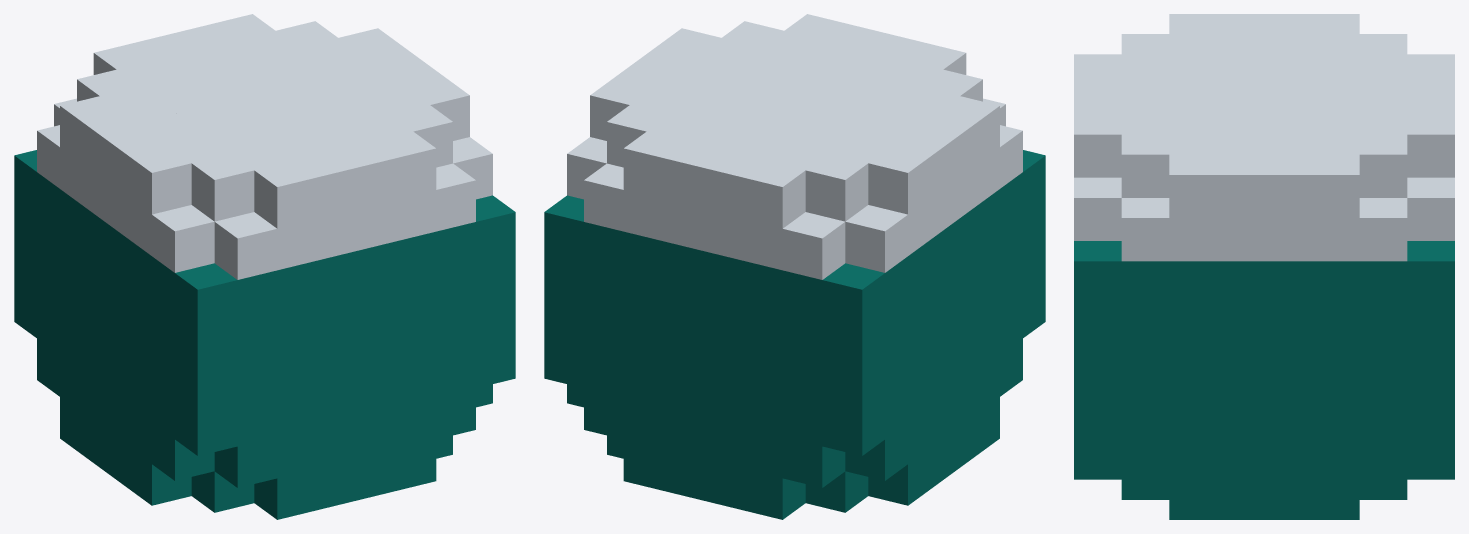
File: green-leaves-with-snow-block.obj
The picture shows the model from 3 angles, left to right: view 1: azimuth 30°, elevation 25°; view 2: azimuth 150°, elevation 25°; view 3: azimuth 270°, elevation 25°; orthographic projection. The views are drawn at different scales.
Bounding box in the file's own units: 8 × 8 × 8.
Materials: 1 (1 with a texture image).
